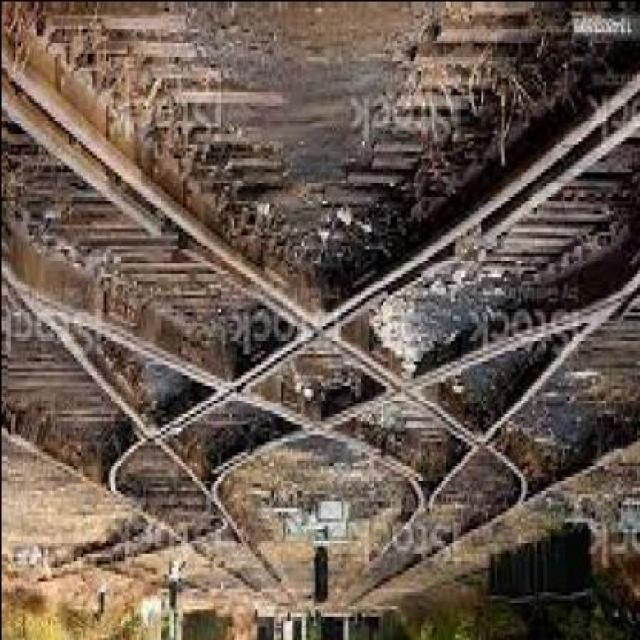rail: (7, 3, 638, 624)
